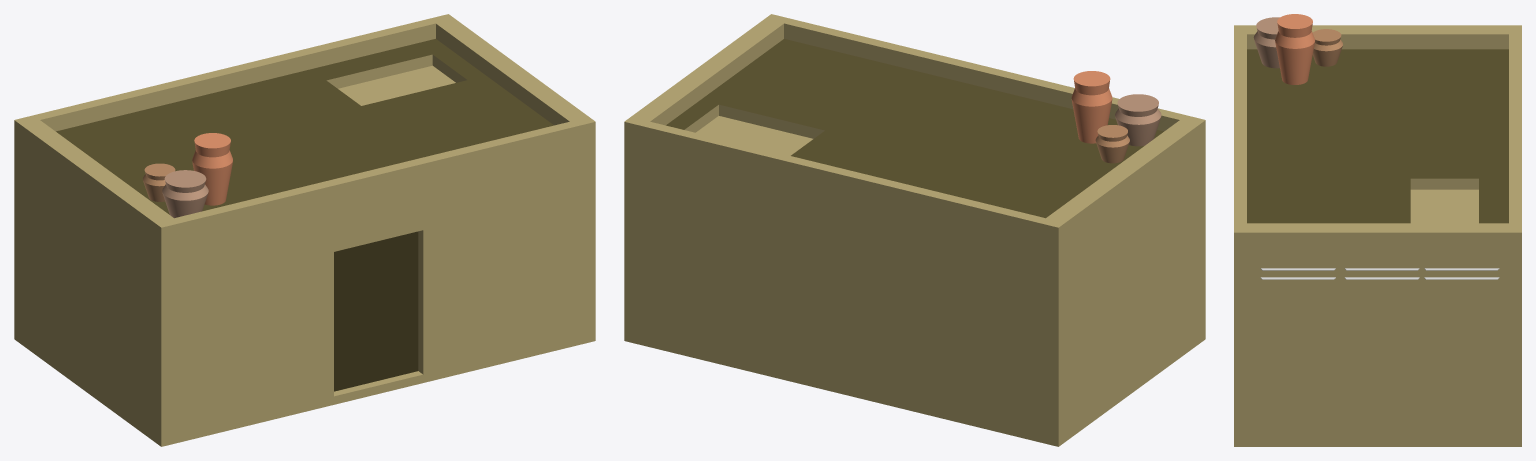
Rendered from Hovel1_Colored.fbx.
The picture shows the model from 3 angles, left to right: view 1: azimuth 30°, elevation 25°; view 2: azimuth 150°, elevation 25°; view 3: azimuth 270°, elevation 25°; orthographic projection. The views are drawn at different scales.
Visible parts, largest first — view 1: Cube, Pot.002, Pot, Pot.001; view 2: Cube, Pot.002, Pot, Pot.001; view 3: Cube, Pot.002, Pot, Pot.001.
Boxes of the visible parts, x1,y1,x2,y2 form: Cube: [14, 14, 595, 446]; Pot.002: [192, 133, 232, 205]; Pot: [162, 170, 208, 218]; Pot.001: [143, 163, 175, 201]; Cube: [624, 14, 1205, 446]; Pot.002: [1071, 71, 1112, 143]; Pot: [1115, 94, 1161, 146]; Pot.001: [1095, 125, 1129, 163]; Cube: [1234, 25, 1521, 446]; Pot.002: [1275, 14, 1314, 84]; Pot: [1253, 17, 1279, 68]; Pot.001: [1312, 29, 1342, 66].
Size of the model in its own units: 499 by 286 by 290.
